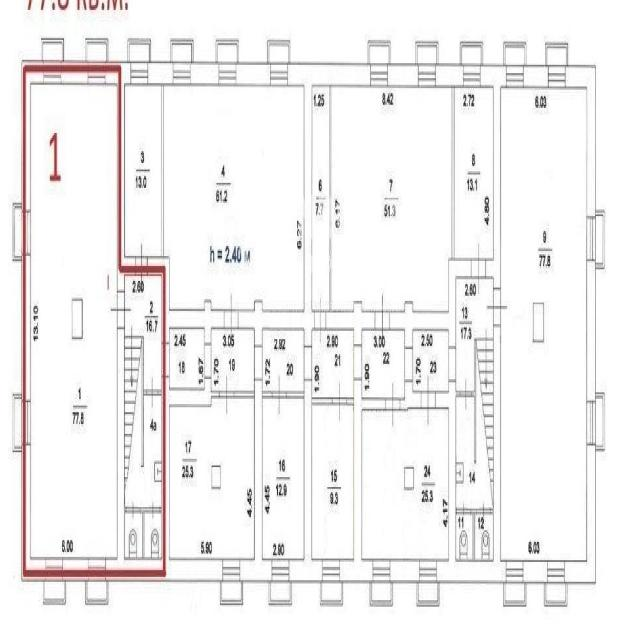Bathrooms: (141, 397, 161, 507), (456, 399, 476, 508), (456, 515, 473, 560), (476, 515, 493, 560), (125, 514, 141, 557), (145, 515, 161, 557)
Corridors: (313, 88, 328, 308), (362, 332, 404, 397), (313, 331, 353, 396), (212, 332, 254, 388), (263, 332, 303, 389), (141, 275, 161, 387), (457, 280, 476, 390), (414, 332, 448, 390), (170, 331, 204, 387), (45, 582, 64, 599), (87, 583, 106, 600), (372, 584, 390, 601), (419, 584, 437, 601), (506, 584, 524, 601), (547, 585, 565, 602), (548, 47, 566, 64), (506, 48, 524, 65), (462, 46, 480, 63), (418, 46, 436, 63), (370, 45, 388, 62), (270, 46, 288, 63), (218, 44, 236, 61), (173, 45, 191, 62), (130, 45, 148, 62), (222, 583, 241, 599), (271, 584, 290, 600), (322, 584, 341, 600), (87, 44, 106, 60), (43, 44, 62, 60), (15, 208, 21, 257), (15, 399, 21, 447), (596, 399, 602, 444), (597, 217, 603, 262)
Doors: (485, 288, 508, 328), (110, 290, 132, 329), (375, 290, 390, 345), (471, 242, 486, 297), (421, 375, 436, 427), (385, 381, 401, 428), (224, 292, 239, 342), (219, 373, 234, 418), (332, 378, 347, 422), (272, 374, 287, 417), (314, 295, 326, 348), (135, 242, 147, 292), (459, 377, 472, 412), (146, 375, 158, 408), (254, 346, 263, 382), (145, 500, 160, 521), (456, 501, 471, 522), (126, 500, 140, 522), (404, 347, 413, 381), (476, 502, 491, 522), (304, 346, 312, 381), (354, 344, 362, 379), (448, 347, 456, 382), (204, 343, 211, 379), (162, 343, 169, 377)
LBwalls: (239, 61, 370, 345), (105, 329, 223, 582), (436, 328, 506, 583), (390, 258, 471, 347), (289, 380, 322, 583), (147, 255, 224, 342), (106, 61, 135, 291), (340, 380, 372, 583), (240, 381, 272, 583), (480, 64, 506, 288), (566, 64, 596, 215), (564, 445, 596, 585), (21, 59, 43, 210), (21, 448, 45, 583), (326, 300, 375, 343), (21, 258, 31, 400), (586, 261, 596, 400), (236, 62, 270, 86), (387, 64, 418, 88), (190, 62, 219, 86), (436, 63, 463, 87), (62, 60, 87, 85), (391, 559, 418, 582), (63, 557, 88, 581), (524, 65, 548, 89), (148, 63, 172, 87), (71, 297, 83, 340), (404, 380, 421, 410), (524, 561, 547, 583), (533, 302, 544, 343), (212, 466, 220, 488), (405, 468, 413, 490)
Offices: (501, 90, 587, 560), (32, 86, 117, 558), (165, 87, 303, 308), (332, 88, 451, 310), (170, 399, 254, 557), (363, 411, 448, 558), (456, 88, 493, 257), (263, 401, 303, 557), (313, 407, 353, 557), (125, 87, 160, 256)
Stairs: (124, 276, 141, 505), (476, 279, 493, 508)
Walls: (471, 338, 476, 465), (452, 88, 455, 260), (161, 87, 164, 256), (329, 87, 331, 311), (141, 335, 144, 467), (140, 506, 146, 558), (362, 398, 385, 410), (471, 508, 476, 561), (234, 390, 254, 400), (312, 397, 332, 405), (287, 390, 304, 399), (263, 390, 272, 400), (211, 390, 219, 399), (401, 398, 405, 411), (347, 397, 353, 405), (158, 388, 162, 396), (456, 390, 460, 398), (144, 389, 147, 396), (124, 505, 126, 514), (160, 508, 162, 515), (491, 508, 493, 515)
Windows: (43, 62, 62, 86), (130, 63, 149, 87), (586, 216, 596, 261), (88, 62, 106, 86), (172, 62, 190, 86), (218, 64, 236, 88), (270, 63, 288, 87), (370, 63, 388, 87), (418, 64, 436, 88), (462, 64, 480, 88), (506, 65, 524, 89), (547, 560, 565, 584), (506, 560, 524, 584), (419, 559, 437, 583), (372, 560, 390, 584), (322, 558, 340, 582), (271, 557, 289, 581), (45, 558, 63, 582), (586, 402, 596, 445), (548, 65, 565, 89), (88, 558, 105, 582), (223, 560, 241, 582), (23, 401, 31, 448), (23, 211, 31, 257)
